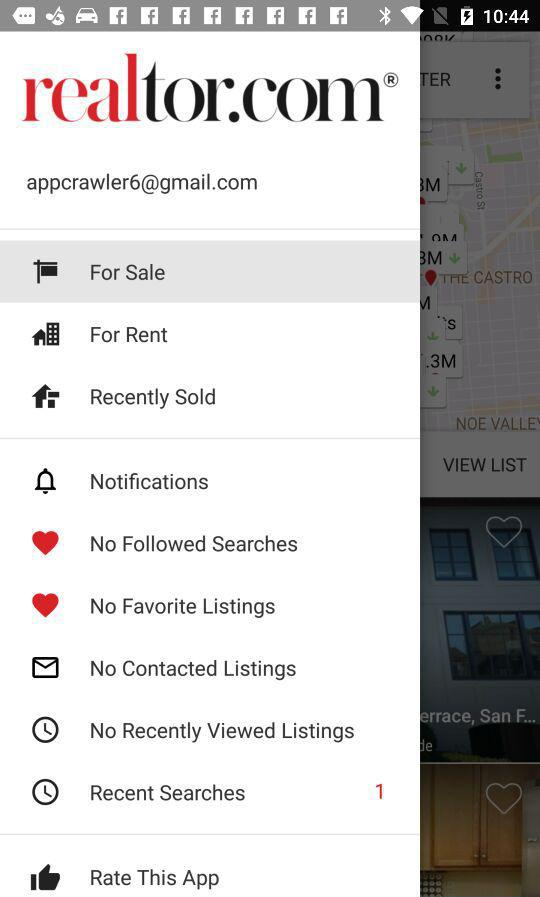Drawer: (1, 33, 421, 897)
Icon: (32, 778, 61, 806), (32, 716, 61, 744), (32, 530, 61, 557), (32, 384, 61, 410), (32, 593, 60, 619), (32, 656, 61, 679), (35, 468, 58, 496)
Image: (21, 53, 400, 123), (30, 863, 62, 891), (32, 322, 62, 348), (33, 259, 60, 285)
Text: (91, 721, 355, 744), (27, 172, 259, 196), (91, 659, 297, 681), (91, 597, 276, 619), (91, 535, 298, 553), (91, 868, 221, 891), (90, 783, 246, 802), (91, 388, 217, 411), (91, 472, 210, 491), (91, 263, 166, 282), (91, 327, 169, 344), (376, 783, 384, 800)
UpperTaskBar: (1, 1, 540, 33)
